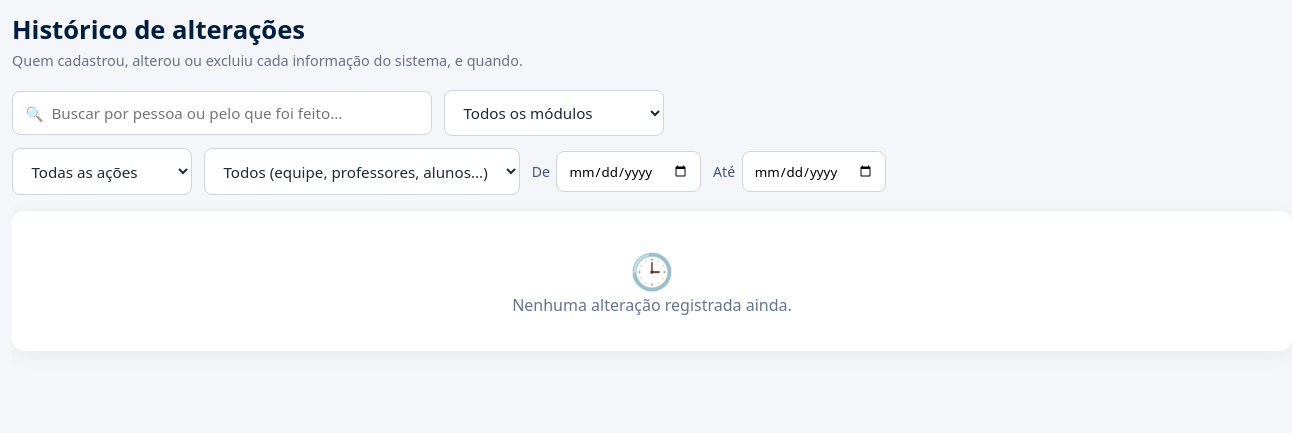
Test: vazio, vazio com filtro e erro
This screenshot has width=1292, height=433.
Expected: the text "Nenhuma alteração registrada ainda." is shown, [512,294,792,316]
Select "Cursos" in the dropdown named "Módulo" at (554, 113), box [444,90,664,136]
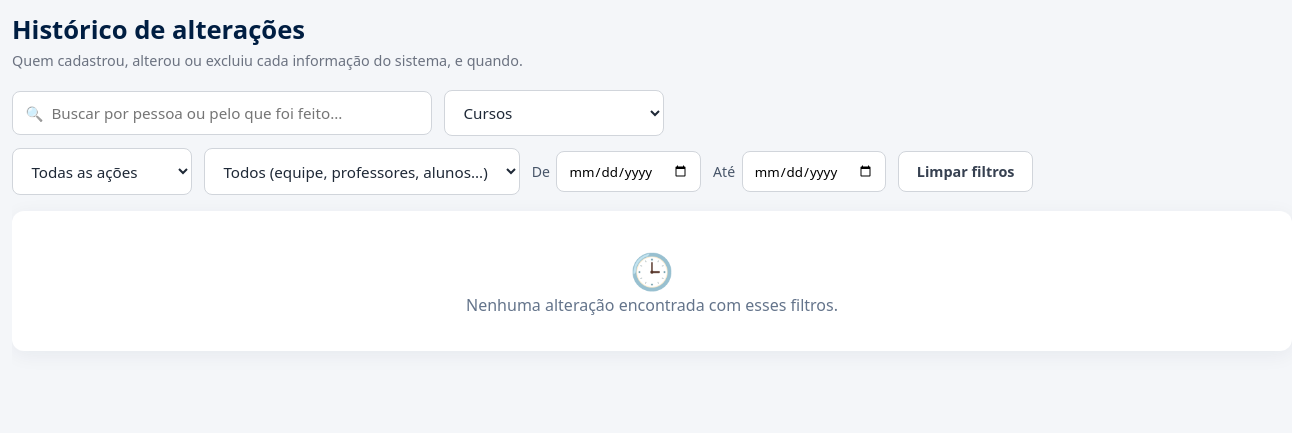
Expected: the text "Nenhuma alteração encontrada com esses filtros." is shown, [466,294,838,316]
Select "Turmas" in the dropdown named "Módulo" at (554, 113), box [444,90,664,136]
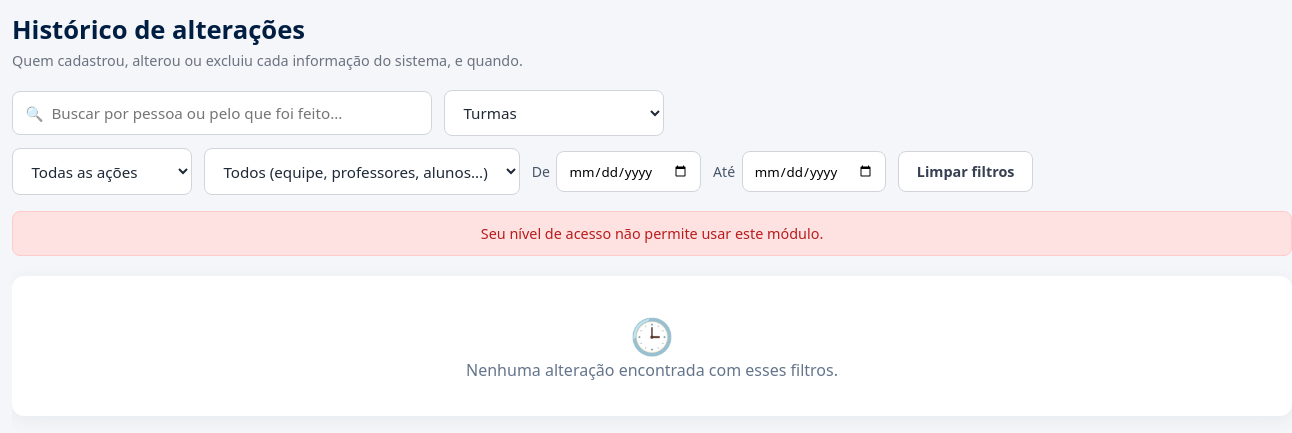
Expected: the text "Seu nível de acesso não permite usar este módulo." is shown, [12,211,1291,256]
Select "Alunos" in the dropdown named "Módulo" at (554, 113), box [444,90,664,136]
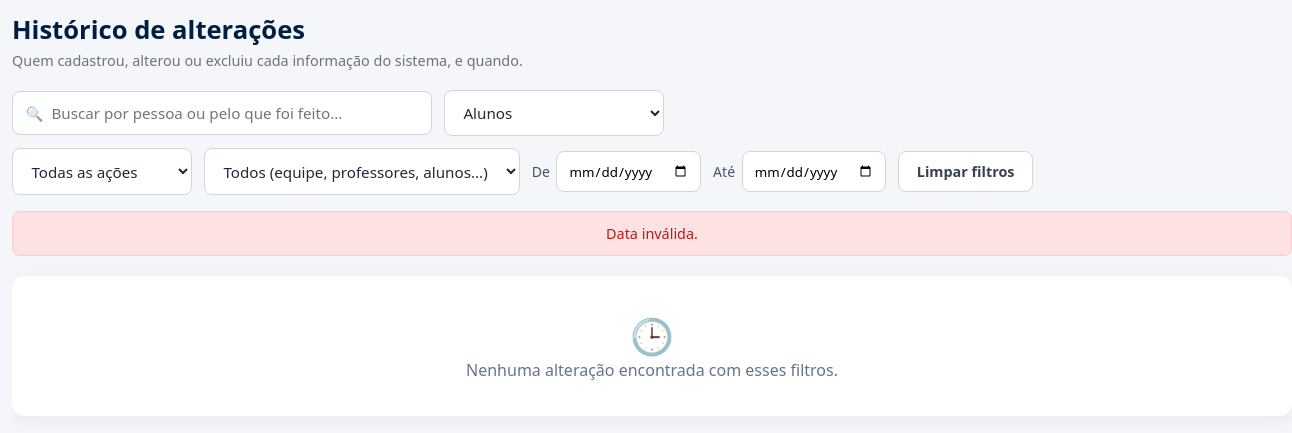
Expected: the text "Data inválida." is shown, [12,211,1291,256]
Select "Financeiro" in the dropdown named "Módulo" at (554, 113), box [444,90,664,136]
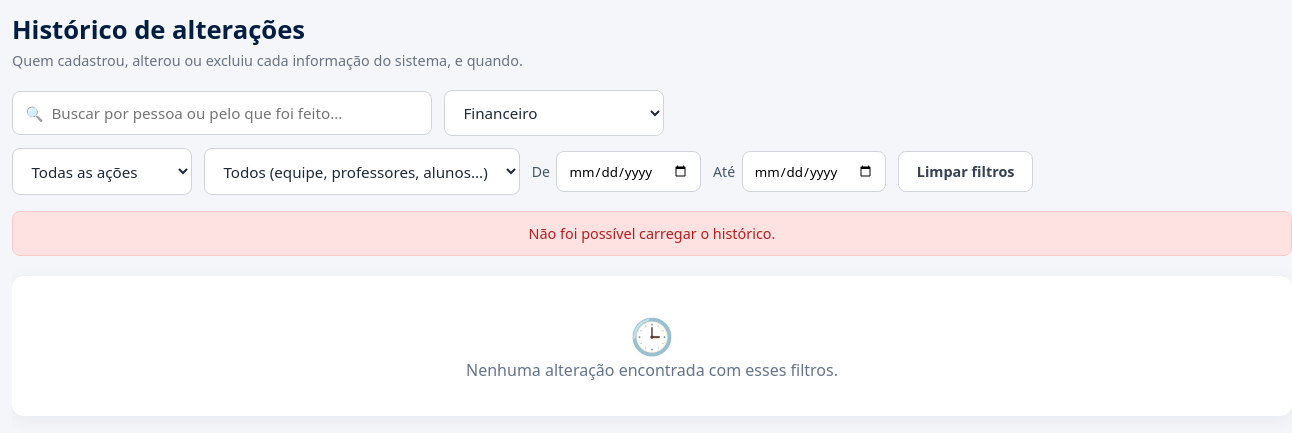
Expected: the text "Não foi possível carregar o histórico." is shown, [12,211,1291,256]
